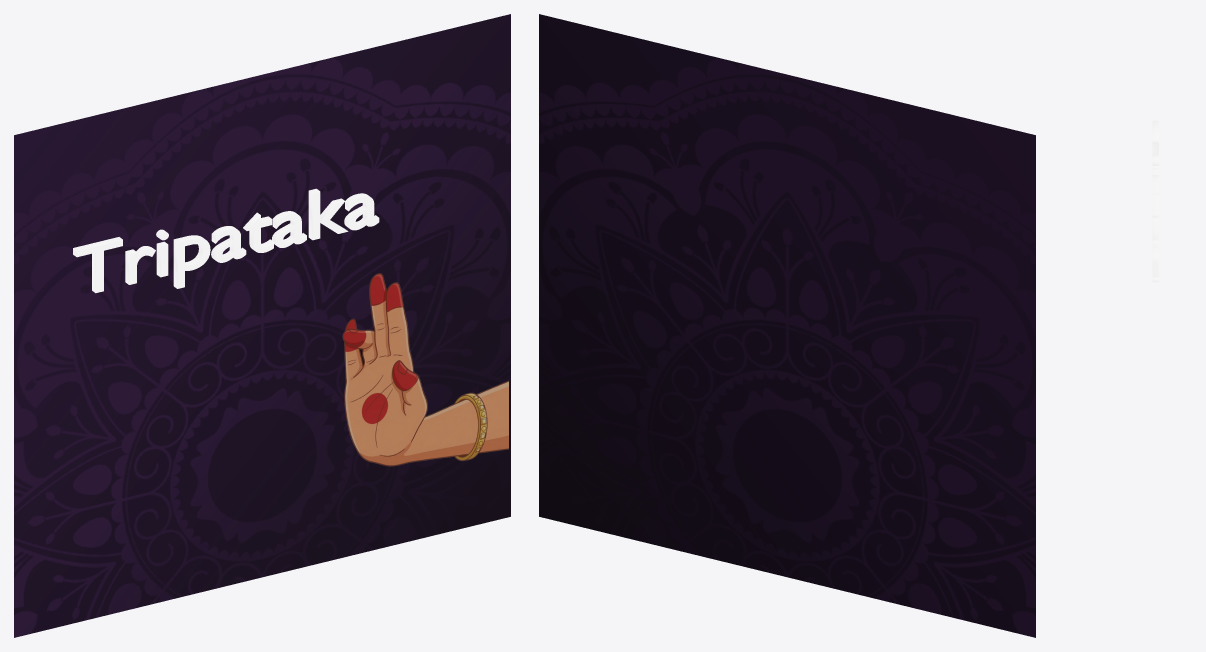
File: Tripataka.glb
The picture shows the model from 3 angles, left to right: view 1: azimuth 30°, elevation 25°; view 2: azimuth 150°, elevation 25°; view 3: azimuth 270°, elevation 25°; orthographic projection. The views are drawn at different scales.
Parts seen in each view (by area): view 1: Plane.002, Plane.003, Text.001; view 2: Plane.002; view 3: Text.001.
Part boxes in pixels (<box>): Plane.002: <box>14,14,510,637</box>; Plane.003: <box>342,273,508,466</box>; Text.001: <box>73,188,379,293</box>; Plane.002: <box>539,14,1035,637</box>; Text.001: <box>1152,120,1158,282</box>.
Size of the model in its own units: 2.48 by 2.4 by 0.6564.
Materials: 3 (2 with a texture image).
